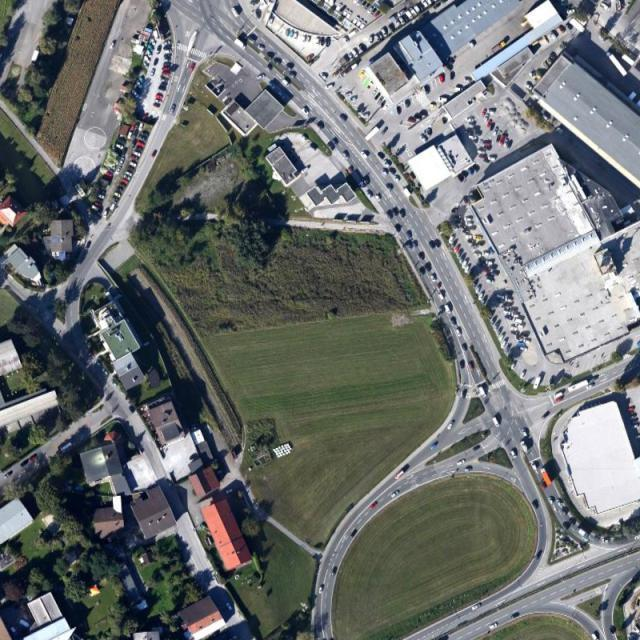vehicle: (568, 379, 590, 393), (366, 126, 380, 142), (576, 527, 590, 538), (348, 28, 362, 38), (235, 38, 246, 50), (60, 442, 73, 451), (534, 376, 542, 390), (403, 186, 412, 198), (406, 10, 415, 21), (479, 386, 487, 398), (395, 470, 405, 479), (230, 8, 239, 18), (20, 458, 30, 467), (520, 441, 528, 452), (494, 320, 502, 331), (319, 72, 328, 81), (350, 529, 358, 539), (425, 261, 433, 271), (454, 243, 462, 253), (138, 134, 148, 142), (410, 7, 418, 17), (246, 36, 256, 44), (430, 273, 438, 282), (418, 252, 426, 261), (542, 411, 550, 420), (460, 252, 466, 264), (109, 202, 117, 211), (397, 10, 406, 18), (334, 3, 342, 12), (360, 151, 368, 160), (130, 154, 140, 161), (497, 326, 504, 336), (491, 316, 498, 326), (407, 116, 417, 123), (282, 79, 290, 87), (318, 122, 326, 130), (402, 14, 410, 22), (6, 470, 14, 478), (451, 241, 459, 249), (366, 190, 374, 198), (391, 491, 400, 498), (489, 623, 498, 630), (472, 604, 481, 611), (478, 291, 485, 300), (346, 11, 353, 20), (531, 462, 538, 471), (438, 290, 444, 300), (493, 417, 499, 427), (536, 550, 542, 560), (500, 135, 506, 145), (142, 130, 150, 137), (370, 502, 378, 509), (124, 174, 132, 181), (343, 152, 350, 160), (342, 36, 350, 43), (374, 34, 381, 42), (367, 6, 374, 14), (390, 166, 397, 174), (387, 210, 394, 218), (419, 266, 426, 274), (458, 174, 465, 182), (518, 341, 526, 348), (592, 633, 600, 640), (511, 611, 519, 618), (420, 134, 427, 142), (415, 6, 422, 14), (486, 259, 494, 266), (489, 310, 496, 318), (116, 143, 124, 150), (274, 59, 282, 66), (30, 454, 38, 461), (394, 206, 399, 217), (139, 122, 145, 131), (526, 82, 532, 91), (170, 105, 176, 114), (161, 76, 170, 82), (326, 84, 335, 90), (360, 43, 366, 52), (511, 450, 517, 459), (457, 460, 466, 466), (446, 305, 452, 314), (419, 110, 428, 116), (454, 86, 463, 92), (463, 78, 472, 84), (133, 151, 142, 157), (256, 9, 262, 18), (256, 75, 266, 80), (496, 294, 506, 299), (474, 235, 484, 240), (486, 279, 496, 284), (405, 99, 410, 109), (326, 37, 331, 47), (341, 114, 348, 121), (382, 170, 389, 177), (422, 1, 429, 8), (360, 23, 367, 30), (383, 161, 390, 168), (378, 152, 385, 159), (372, 88, 379, 95), (401, 209, 408, 216), (395, 224, 402, 231), (435, 239, 442, 246), (462, 170, 469, 177), (522, 429, 529, 436), (570, 518, 577, 525), (143, 62, 150, 69), (286, 63, 293, 70), (288, 71, 295, 78), (258, 45, 265, 52), (135, 146, 143, 152), (152, 150, 158, 158), (328, 142, 334, 150), (147, 50, 153, 58), (127, 131, 133, 139), (130, 162, 138, 168), (357, 46, 363, 54), (395, 20, 401, 28), (386, 183, 392, 191), (429, 240, 435, 248), (468, 362, 474, 370), (533, 501, 539, 509), (562, 507, 568, 515), (490, 123, 496, 131), (482, 296, 488, 304), (424, 86, 430, 94), (129, 166, 135, 174), (156, 46, 162, 54), (376, 194, 382, 202), (145, 55, 151, 63), (113, 192, 121, 198), (413, 240, 419, 248), (162, 70, 171, 75), (151, 36, 156, 45), (382, 29, 387, 38), (555, 397, 564, 402), (477, 150, 486, 155), (466, 118, 475, 123), (549, 497, 554, 506), (483, 251, 494, 255), (148, 44, 154, 51), (110, 42, 116, 49), (267, 52, 274, 58), (378, 32, 384, 39), (356, 20, 362, 27), (474, 165, 480, 172), (517, 334, 523, 341), (513, 312, 520, 318), (506, 315, 513, 321), (415, 114, 422, 120), (123, 179, 130, 185), (153, 102, 161, 107), (98, 194, 106, 199), (350, 53, 355, 61), (353, 50, 358, 58), (460, 360, 465, 368), (506, 298, 514, 303), (511, 361, 516, 369), (481, 110, 486, 118), (474, 132, 482, 137), (397, 106, 402, 114), (190, 64, 195, 72), (426, 1, 434, 6), (408, 241, 413, 249), (119, 160, 125, 166), (121, 182, 127, 188), (496, 136, 502, 142), (465, 218, 474, 222), (466, 265, 470, 274), (450, 73, 456, 79), (429, 104, 438, 108), (321, 37, 325, 46), (316, 37, 320, 46), (159, 86, 166, 91), (353, 18, 358, 25), (408, 230, 413, 237), (285, 29, 290, 36), (269, 17, 274, 24), (462, 343, 467, 350), (522, 347, 529, 352), (587, 385, 594, 390), (487, 120, 492, 127), (493, 129, 498, 136), (449, 236, 454, 243), (440, 75, 445, 82), (117, 166, 122, 173), (137, 142, 145, 146), (163, 66, 171, 70), (154, 58, 158, 66), (294, 32, 298, 40), (470, 167, 474, 175), (462, 390, 466, 398), (473, 446, 481, 450), (488, 157, 496, 161), (164, 54, 172, 58), (150, 69, 155, 75), (164, 41, 170, 46), (358, 1, 364, 6), (343, 10, 348, 16), (351, 97, 357, 102), (504, 310, 510, 315), (504, 140, 509, 146), (165, 62, 172, 66), (155, 99, 162, 103), (160, 82, 167, 86), (126, 172, 133, 176), (290, 30, 294, 37), (302, 35, 306, 42), (466, 235, 473, 239), (509, 142, 513, 149), (466, 222, 473, 226), (474, 254, 481, 258), (165, 58, 172, 62), (164, 46, 171, 50), (635, 535, 640, 540), (466, 467, 471, 472), (330, 1, 334, 7), (166, 50, 172, 54), (333, 569, 337, 575), (308, 34, 311, 42), (428, 129, 431, 137), (104, 210, 107, 218), (319, 587, 322, 594), (558, 500, 561, 507), (602, 539, 609, 542), (371, 36, 374, 43), (354, 1, 358, 2), (325, 1, 328, 2)
